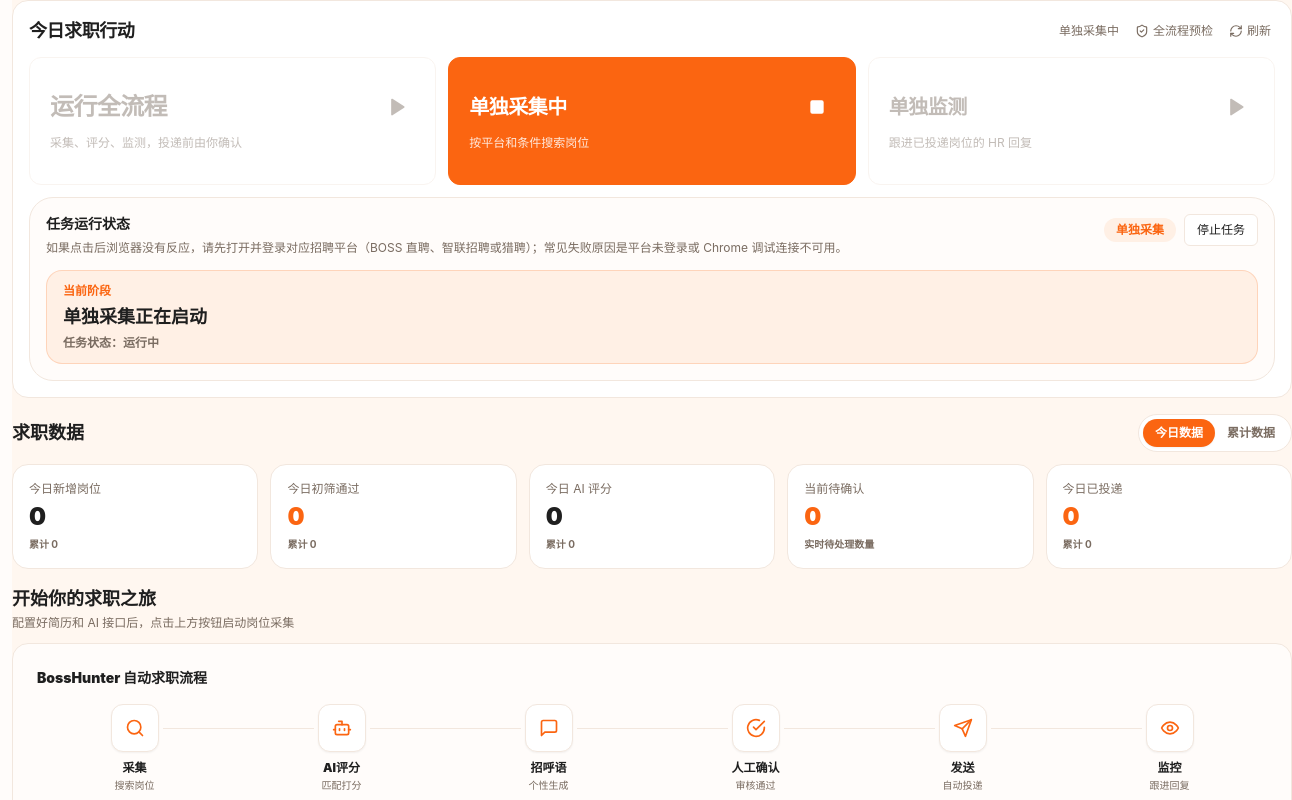
Scenario: DashboardPage workbench task panel › confirms the stop request when the backend accepts it
Click the button "停止任务" at (1221,230), box [1184,214,1258,246]
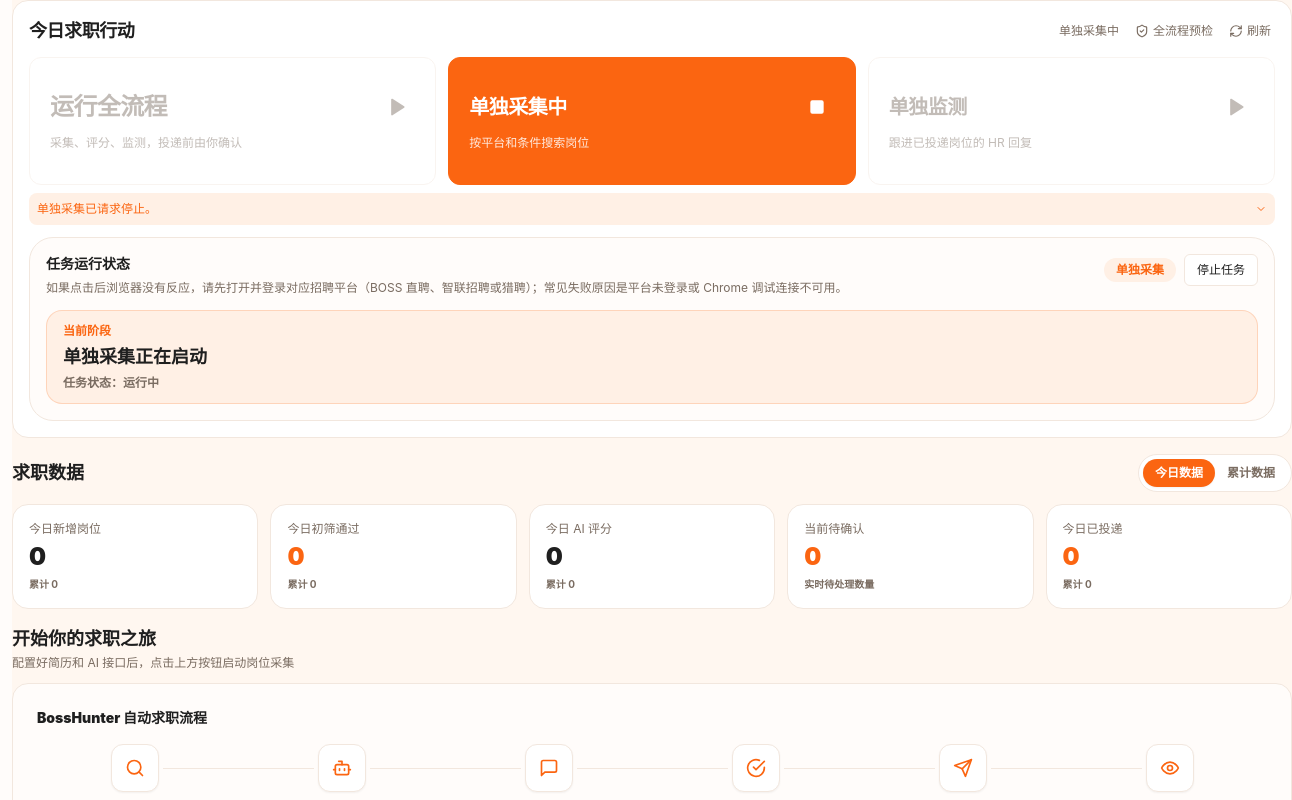
Result: the text "单独采集已请求停止。" is shown at [37,201,157,216]
